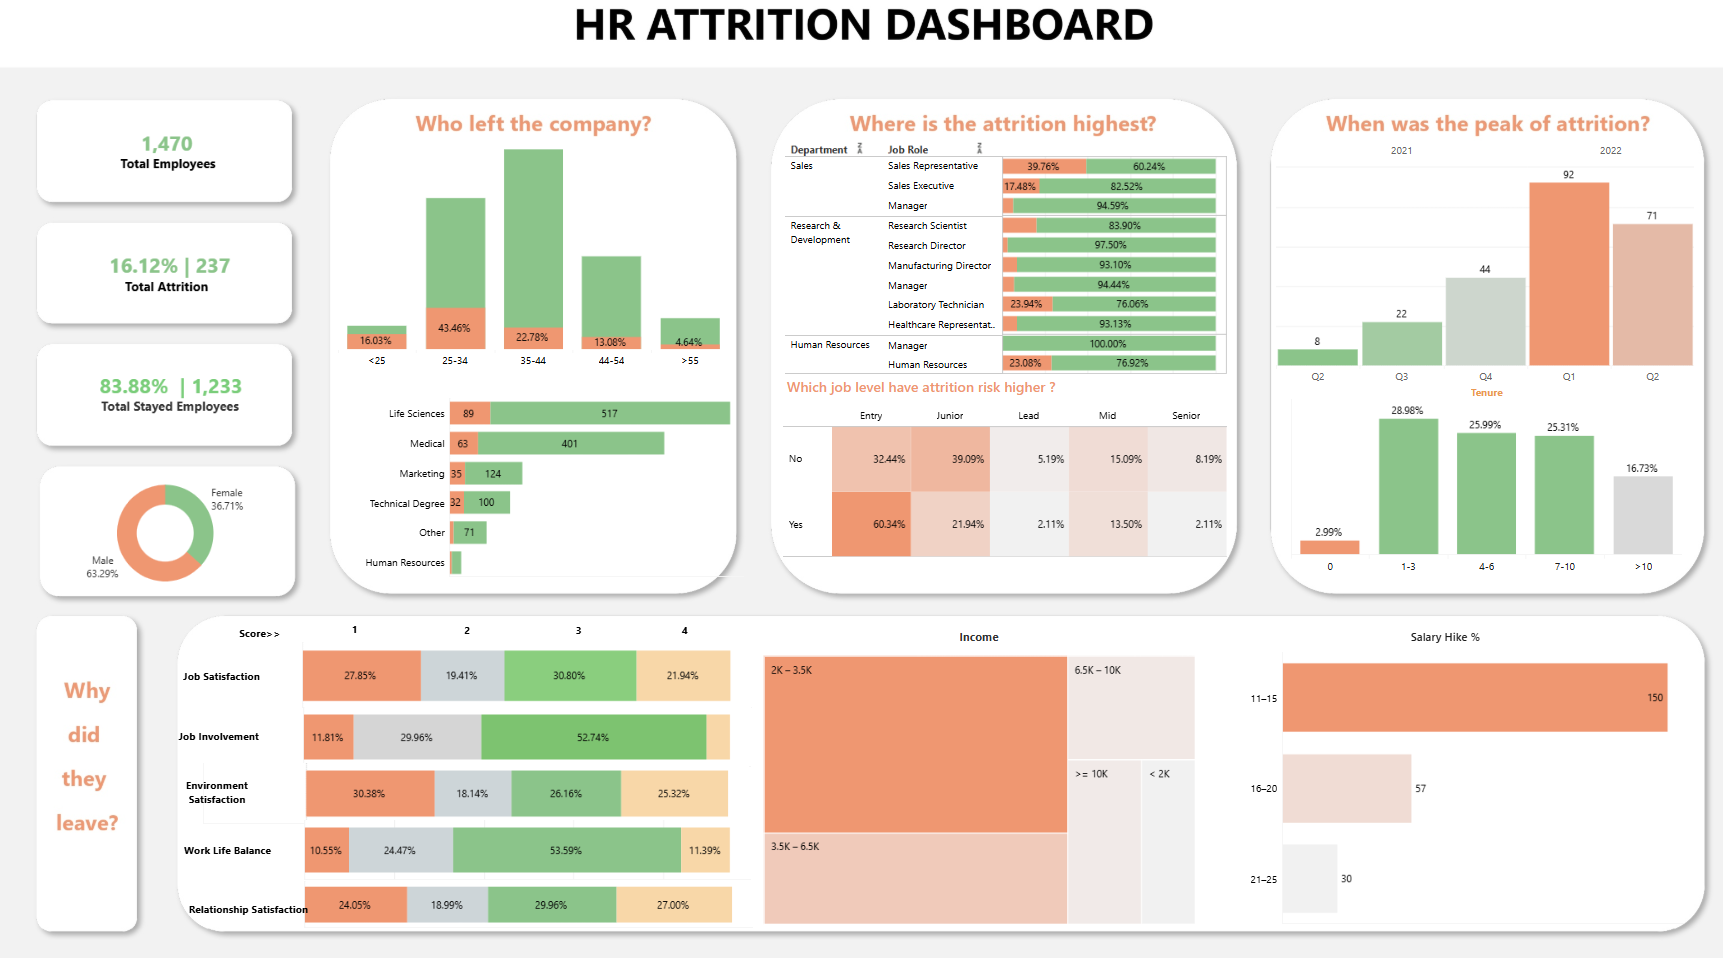

The page's visual inventory and layout, read from the dashboard file:
{"tool":"tableau","page":{"name":"DASH WITH TEMPLATE","canvas":[1920,1080],"ordinal":0},"visuals":[{"type":"image","param":"Image/TEMPLATE.jpg","box":[8,8,1904,1064]},{"type":"worksheet","title":"Total Employees","mark":"Automatic","box":[61,150,256,91]},{"type":"worksheet","title":"WHERE: Department + Job","mark":"Bar","rows":["Department","JobRole"],"box":[849,180,472,254]},{"type":"worksheet","title":"WHO: Age","mark":"Bar","rows":["Calculation_1151795615800926250","Calculation_1151795615800844329"],"cols":["Calculation_1599622303592562688"],"box":[372,182,417,254]},{"type":"worksheet","title":"WHEN: Overtime","mark":"Bar","rows":["EmployeeCount"],"cols":["Attrition Date","Attrition Date"],"box":[1373,184,446,259]},{"type":"worksheet","title":"Total Atrrition","mark":"Automatic","box":[59,279,254,94]},{"type":"worksheet","title":"Total Stay","mark":"Automatic","box":[66,406,248,98]},{"type":"worksheet","title":"WHERE: Job Level","mark":"Square","rows":["Attrition"],"cols":["Calculation_1151795615793848355"],"box":[847,432,473,196]},{"type":"worksheet","title":"WHEN: Tenure","mark":"Automatic","rows":["EmployeeCount"],"cols":["Calculation_1151795615780757506"],"box":[1389,444,417,201]},{"type":"worksheet","title":"WHO: Education","mark":"Automatic","rows":["Calculation_1151795615818997830"],"cols":["EmployeeCount"],"box":[379,459,426,191]},{"type":"worksheet","title":"Attrition by Gender","mark":"Pie","rows":["Calculation_1151795615854637156","Calculation_1151795615854649446"],"box":[62,538,252,130]},{"type":"text","box":[340,690,100,30]},{"type":"text","box":[460,691,100,30]},{"type":"text","box":[579,691,100,30]},{"type":"text","box":[692,691,100,30]},{"type":"text","box":[220,694,138,30]},{"type":"worksheet","title":"Income","mark":"Automatic","box":[822,700,526,323]},{"type":"worksheet","title":"Hike","mark":"Automatic","rows":["Calculation_1151795615839314011"],"cols":["Calculation_1151795615800844329"],"box":[1299,700,509,320]},{"type":"worksheet","title":"Job satisfaction","mark":"Automatic","cols":["Calculation_1151795615800844329"],"box":[334,719,480,70]},{"type":"text","box":[207,740,125,30]},{"type":"worksheet","title":"Job envolvement","mark":"Automatic","cols":["Calculation_1151795615800844329"],"box":[335,788,478,64]},{"type":"text","box":[202,799,128,39]},{"type":"text","box":[210,847,120,63]},{"type":"worksheet","title":"Environment","mark":"Automatic","cols":["Calculation_1151795615800844329"],"box":[228,848,583,65]},{"type":"worksheet","title":"Work Balance","mark":"Automatic","cols":["Calculation_1151795615800844329"],"box":[336,909,477,64]},{"type":"text","box":[208,925,132,30]},{"type":"worksheet","title":"Relationship","mark":"Automatic","cols":["Calculation_1151795615800844329"],"box":[336,974,479,50]},{"type":"text","box":[213,988,132,30]}]}

Visuals, with their boxes in screenshot pixels (x1, y1, x2, y2), scaled from the page's 1920x1080 canvas onto the 1723x958 screenshot:
image: rect(7, 7, 1716, 951)
"Total Employees" worksheet: rect(55, 133, 284, 214)
"WHERE: Department + Job" worksheet (Bar marks): rect(762, 160, 1185, 385)
"WHO: Age" worksheet (Bar marks): rect(334, 161, 708, 387)
"WHEN: Overtime" worksheet (Bar marks): rect(1232, 163, 1632, 393)
"Total Atrrition" worksheet: rect(53, 247, 281, 331)
"Total Stay" worksheet: rect(59, 360, 282, 447)
"WHERE: Job Level" worksheet (Square marks): rect(760, 383, 1185, 557)
"WHEN: Tenure" worksheet: rect(1246, 394, 1621, 572)
"WHO: Education" worksheet: rect(340, 407, 722, 577)
"Attrition by Gender" worksheet (Pie marks): rect(56, 477, 282, 593)
text: rect(305, 612, 395, 639)
text: rect(413, 613, 503, 640)
text: rect(520, 613, 609, 640)
text: rect(621, 613, 711, 640)
text: rect(197, 616, 321, 642)
"Income" worksheet: rect(738, 621, 1210, 907)
"Hike" worksheet: rect(1166, 621, 1622, 905)
"Job satisfaction" worksheet: rect(300, 638, 730, 700)
text: rect(186, 656, 298, 683)
"Job envolvement" worksheet: rect(301, 699, 730, 756)
text: rect(181, 709, 296, 743)
text: rect(188, 751, 296, 807)
"Environment" worksheet: rect(205, 752, 728, 810)
"Work Balance" worksheet: rect(302, 806, 730, 863)
text: rect(187, 821, 305, 847)
"Relationship" worksheet: rect(302, 864, 731, 908)
text: rect(191, 876, 310, 903)
